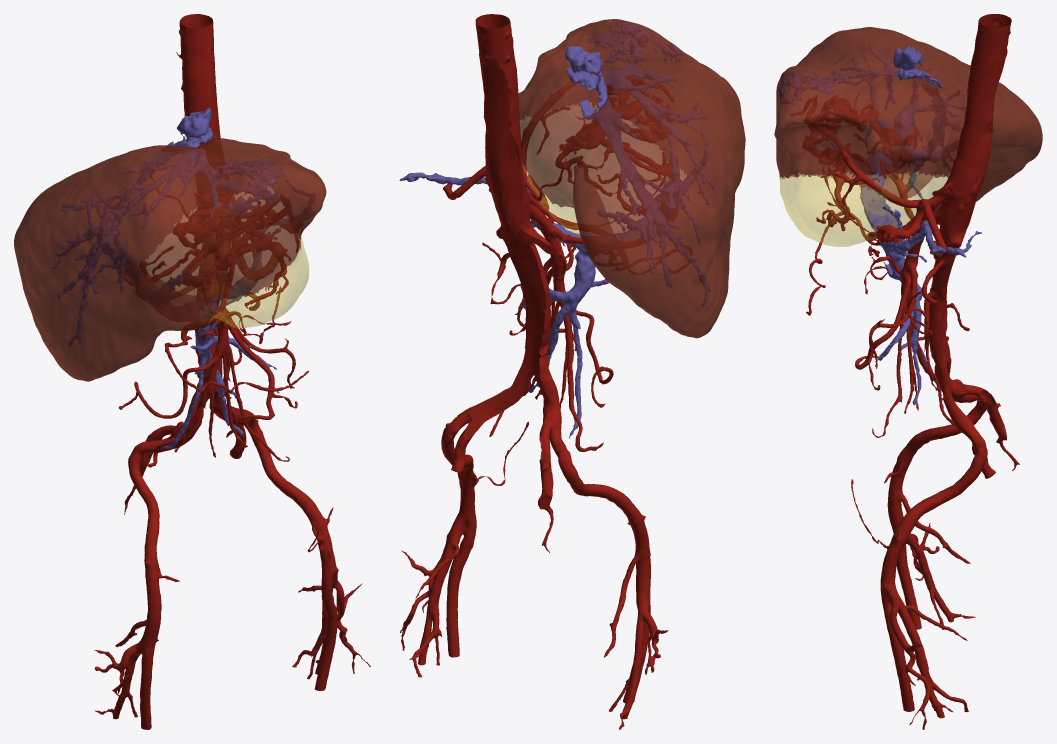
File: Liver_.glb
3 views of the same model, side by side, from view 1: azimuth 30°, elevation 25°; view 2: azimuth 150°, elevation 25°; view 3: azimuth 270°, elevation 25° (orthographic). The views are drawn at different scales.
Parts seen in each view (by area): view 1: liver_venous.001, 3d_Arterial_thin.002, 3d_Venus.001; view 2: liver_venous.001, 3d_Arterial_thin.002, 3d_Venus.001; view 3: 3d_Arterial_thin.002, liver_venous.001, 3d_Venus.001.
Boxes of the visible parts, x1,y1,x2,y2 form: liver_venous.001: (14, 136, 326, 381); 3d_Arterial_thin.002: (94, 14, 370, 729); 3d_Venus.001: (51, 108, 289, 449); liver_venous.001: (518, 19, 745, 338); 3d_Arterial_thin.002: (400, 14, 674, 729); 3d_Venus.001: (399, 22, 717, 438); 3d_Arterial_thin.002: (790, 14, 1019, 729); liver_venous.001: (774, 27, 1042, 246); 3d_Venus.001: (779, 42, 994, 404).
Bounding box in the file's own units: 2.15 × 4.25 × 1.59.
